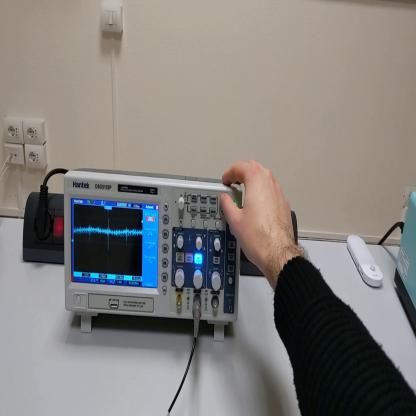hand: (220, 159, 297, 272)
oscilloscope: (64, 167, 243, 341)
socket: (24, 189, 64, 264)
welder station: (396, 189, 416, 336)
